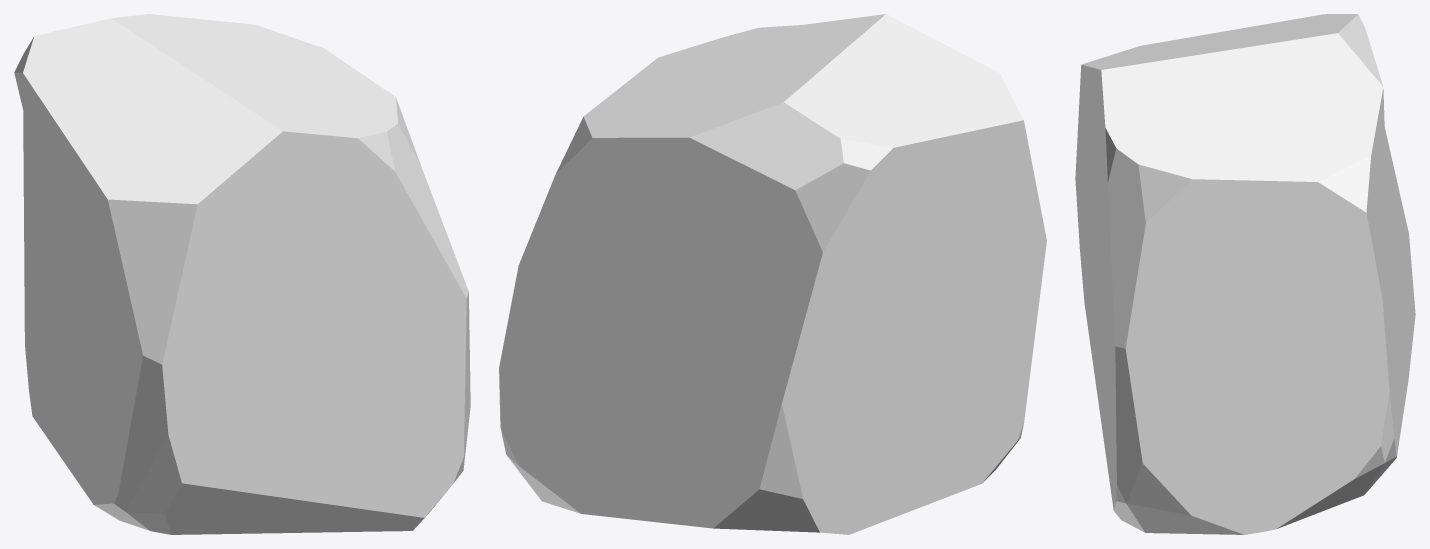
Rendered from medic_salt_3.fbx.
3 renders of one model, left to right at view 1: azimuth 30°, elevation 25°; view 2: azimuth 150°, elevation 25°; view 3: azimuth 270°, elevation 25°, orthographic. The views are drawn at different scales.
Visible parts, largest first — view 1: medic_salt_3; view 2: medic_salt_3; view 3: medic_salt_3.
Boxes of the visible parts, box(x1,y1,x2,y2) form: medic_salt_3: box(14, 14, 470, 534); medic_salt_3: box(499, 14, 1046, 534); medic_salt_3: box(1075, 14, 1415, 534).
Bounding box in the file's own units: 131 × 160 × 121.
